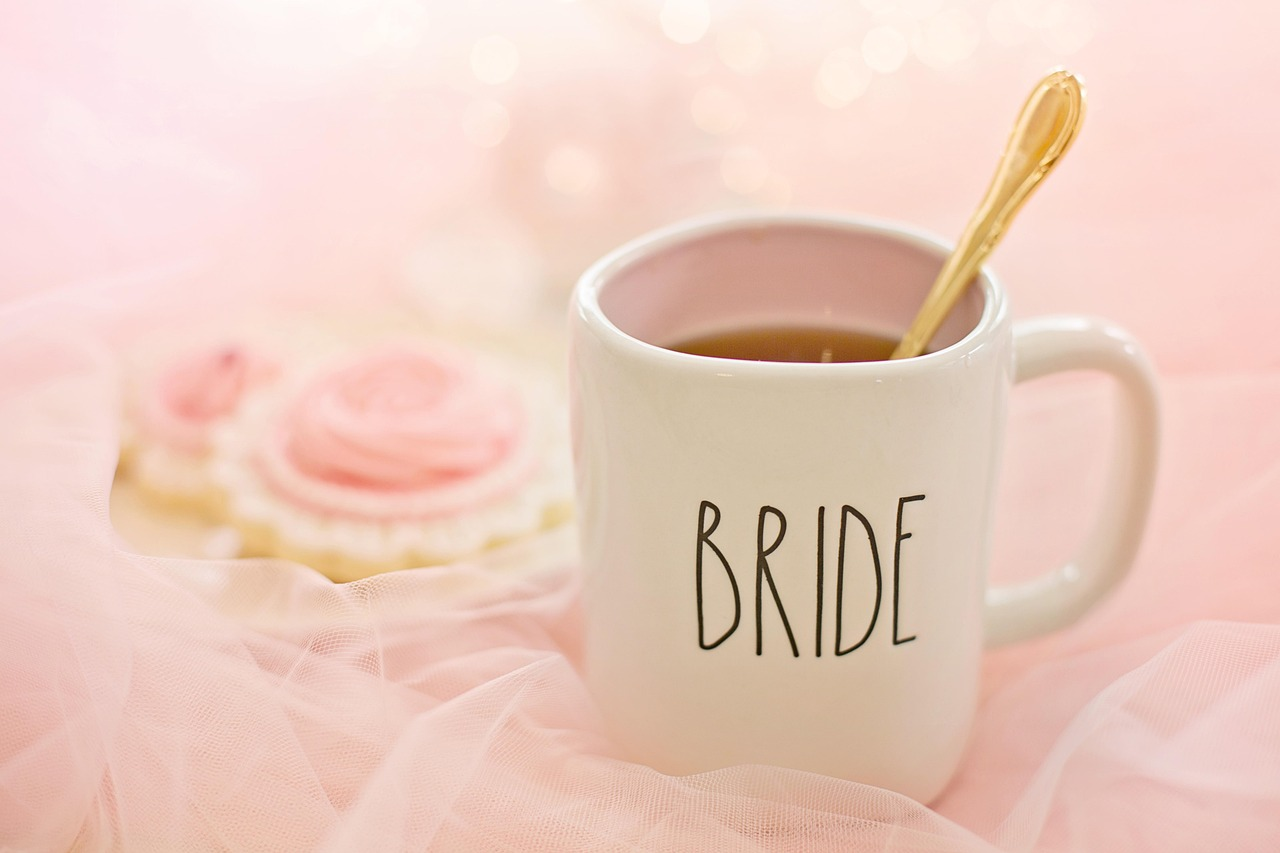mug: (530, 193, 1201, 829)
